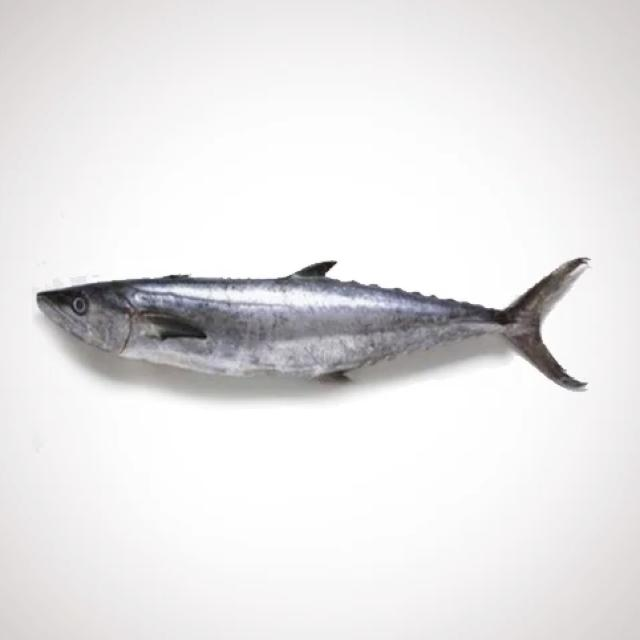seer: (37, 260, 586, 391)
